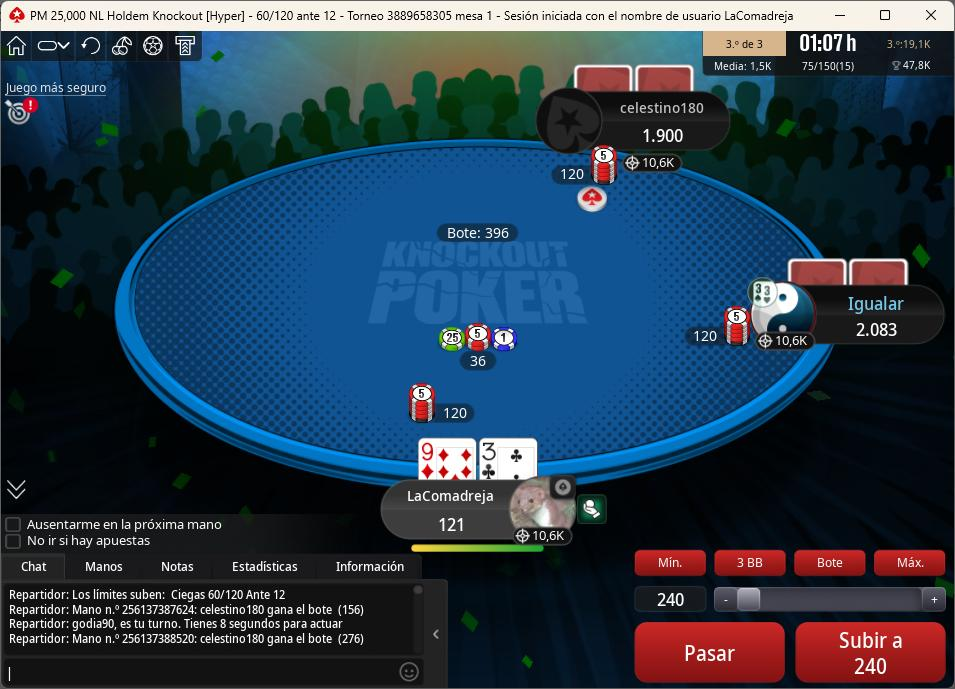ButtonCall: (620, 615, 782, 686)
ButtonMaxRaise: (871, 546, 947, 581)
ButtonMinRaise: (634, 549, 712, 581)
ButtonPotRaise: (790, 544, 868, 578)
ButtonRaise: (793, 618, 949, 684)
Dealer: (568, 182, 620, 218)
HiddenCards: (575, 67, 698, 95), (783, 259, 910, 286)
Player: (747, 282, 948, 351), (538, 93, 730, 157)
PlayerBet: (680, 305, 759, 352), (550, 143, 628, 189)
PlayerChips: (851, 322, 907, 342)
Pot: (435, 225, 522, 244)
PrincipalBet: (406, 381, 480, 425)
PrincipalCards: (416, 439, 545, 483)
PrincipalCards1: (418, 438, 477, 483)
PrincipalCards2: (480, 438, 538, 481)
PrincipalPlayer: (381, 477, 586, 552)
PrincipalPlayerChips: (433, 517, 478, 538)
SmallBigBlind: (246, 3, 345, 33)
TablePot: (434, 322, 546, 378)
